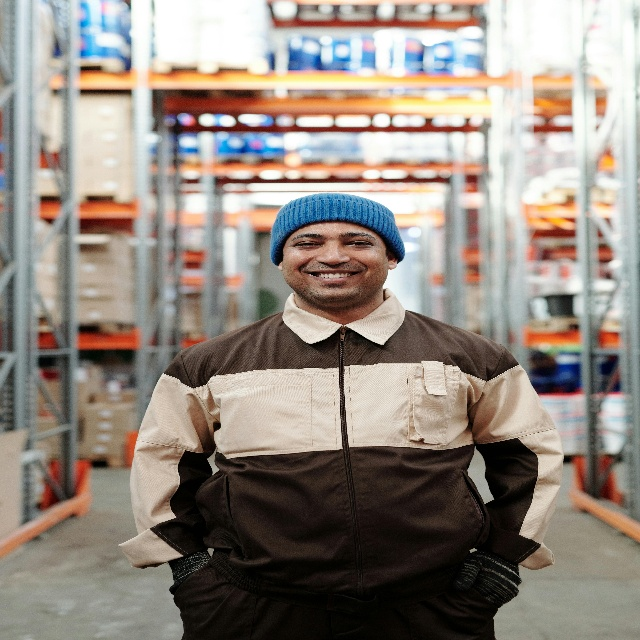Guantes: (454, 543, 524, 613)
